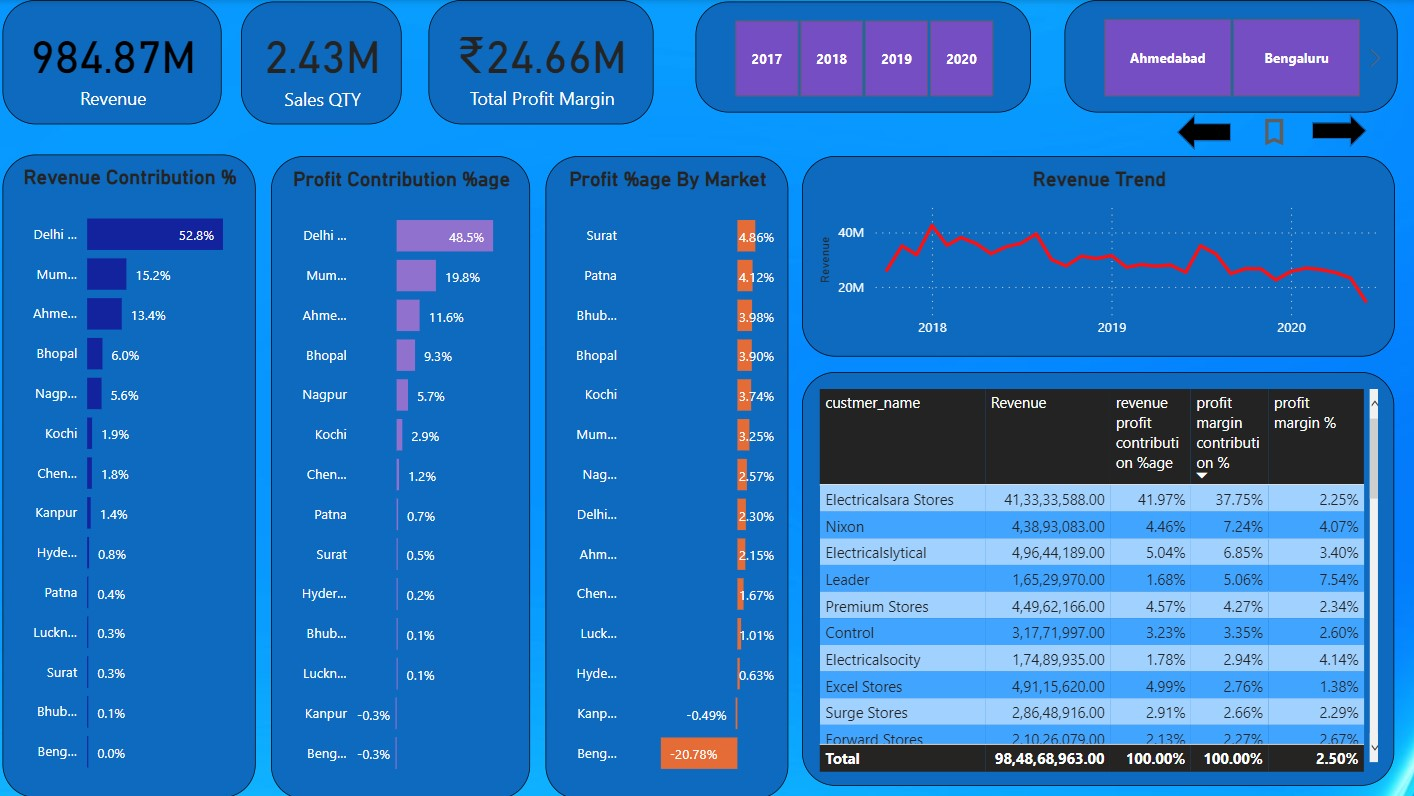

This screenshot's page, from the dashboard's own definition file:
{"tool":"powerbi","page":{"name":"Dashboard 3","canvas":[1280,720],"ordinal":2},"visuals":[{"type":"card","fields":{"Values":["measures (2).revenue"]},"box":[4.1,0,197.2,112.1],"z":0},{"type":"card","fields":{"Values":["measures (2).sales qty"]},"box":[218.8,1.4,144.5,110.8],"z":1000},{"type":"barChart","title":"Profit %age By Market","fields":{"Y":["measures (2).profit margin %"],"Category":["sales markets.markets_name"]},"box":[493.1,140.5,218.8,579.5],"z":2000},{"type":"barChart","title":"Profit Contribution %age","fields":{"Y":["measures (2).profit margin contribution %"],"Category":["sales markets.markets_name"]},"box":[245.7,141,233.6,579.3],"z":3000},{"type":"slicer","fields":{"Values":["sales date.cy_date.Variation.Date Hierarchy.Year"]},"box":[627.9,1.5,301.8,100.1],"z":4000},{"type":"tableEx","title":"top 5 customer","fields":{"Values":["sales customers.custmer_name","measures (2).revenue","measures (2).revenue profit contribution %age","measures (2).profit margin contribution %","measures (2).profit margin %"]},"box":[724.1,335,533.6,372.8],"z":5000},{"type":"lineChart","title":"Revenue Trend","fields":{"Category":["sales date.cy_date"],"Y":["measures (2).revenue"]},"box":[723.4,141,533.8,180.5],"z":6000},{"type":"card","fields":{"Values":["measures (2).total profit margin"]},"box":[387.7,0,202.6,112.1],"z":7000},{"type":"barChart","title":"Revenue Contribution %","fields":{"Y":["measures (2).revenue profit contribution %age"],"Category":["sales markets.markets_name"]},"box":[4.1,139.1,228.3,579.5],"z":8000},{"type":"actionButton","box":[1132.9,103.1,50,31.8],"z":9000},{"type":"shape","box":[1182.9,103.1,49,30.3],"z":10000},{"type":"shape","box":[1061.8,102.7,48.6,32.4],"z":11000},{"type":"slicer","fields":{"Values":["sales markets.markets_name"]},"box":[960,0,300.3,101.6],"z":12000}]}

Visuals, with their boxes in screenshot pixels (x1, y1, x2, y2), scaled from the page's 1280x720 canvas onto the 1414x796 screenshot:
card - measures (2).revenue: bbox=[5, 0, 222, 124]
card - measures (2).sales qty: bbox=[242, 2, 401, 124]
"Profit %age By Market" barChart: bbox=[545, 155, 786, 795]
"Profit Contribution %age" barChart: bbox=[271, 156, 529, 795]
slicer - sales date.cy_date.Variation.Date Hierarchy.Year: bbox=[694, 2, 1027, 112]
"top 5 customer" tableEx: bbox=[800, 370, 1389, 783]
"Revenue Trend" lineChart: bbox=[799, 156, 1389, 355]
card - measures (2).total profit margin: bbox=[428, 0, 652, 124]
"Revenue Contribution %" barChart: bbox=[5, 154, 257, 794]
actionButton: bbox=[1252, 114, 1307, 149]
shape: bbox=[1307, 114, 1361, 147]
shape: bbox=[1173, 114, 1227, 149]
slicer - sales markets.markets_name: bbox=[1060, 0, 1392, 112]
